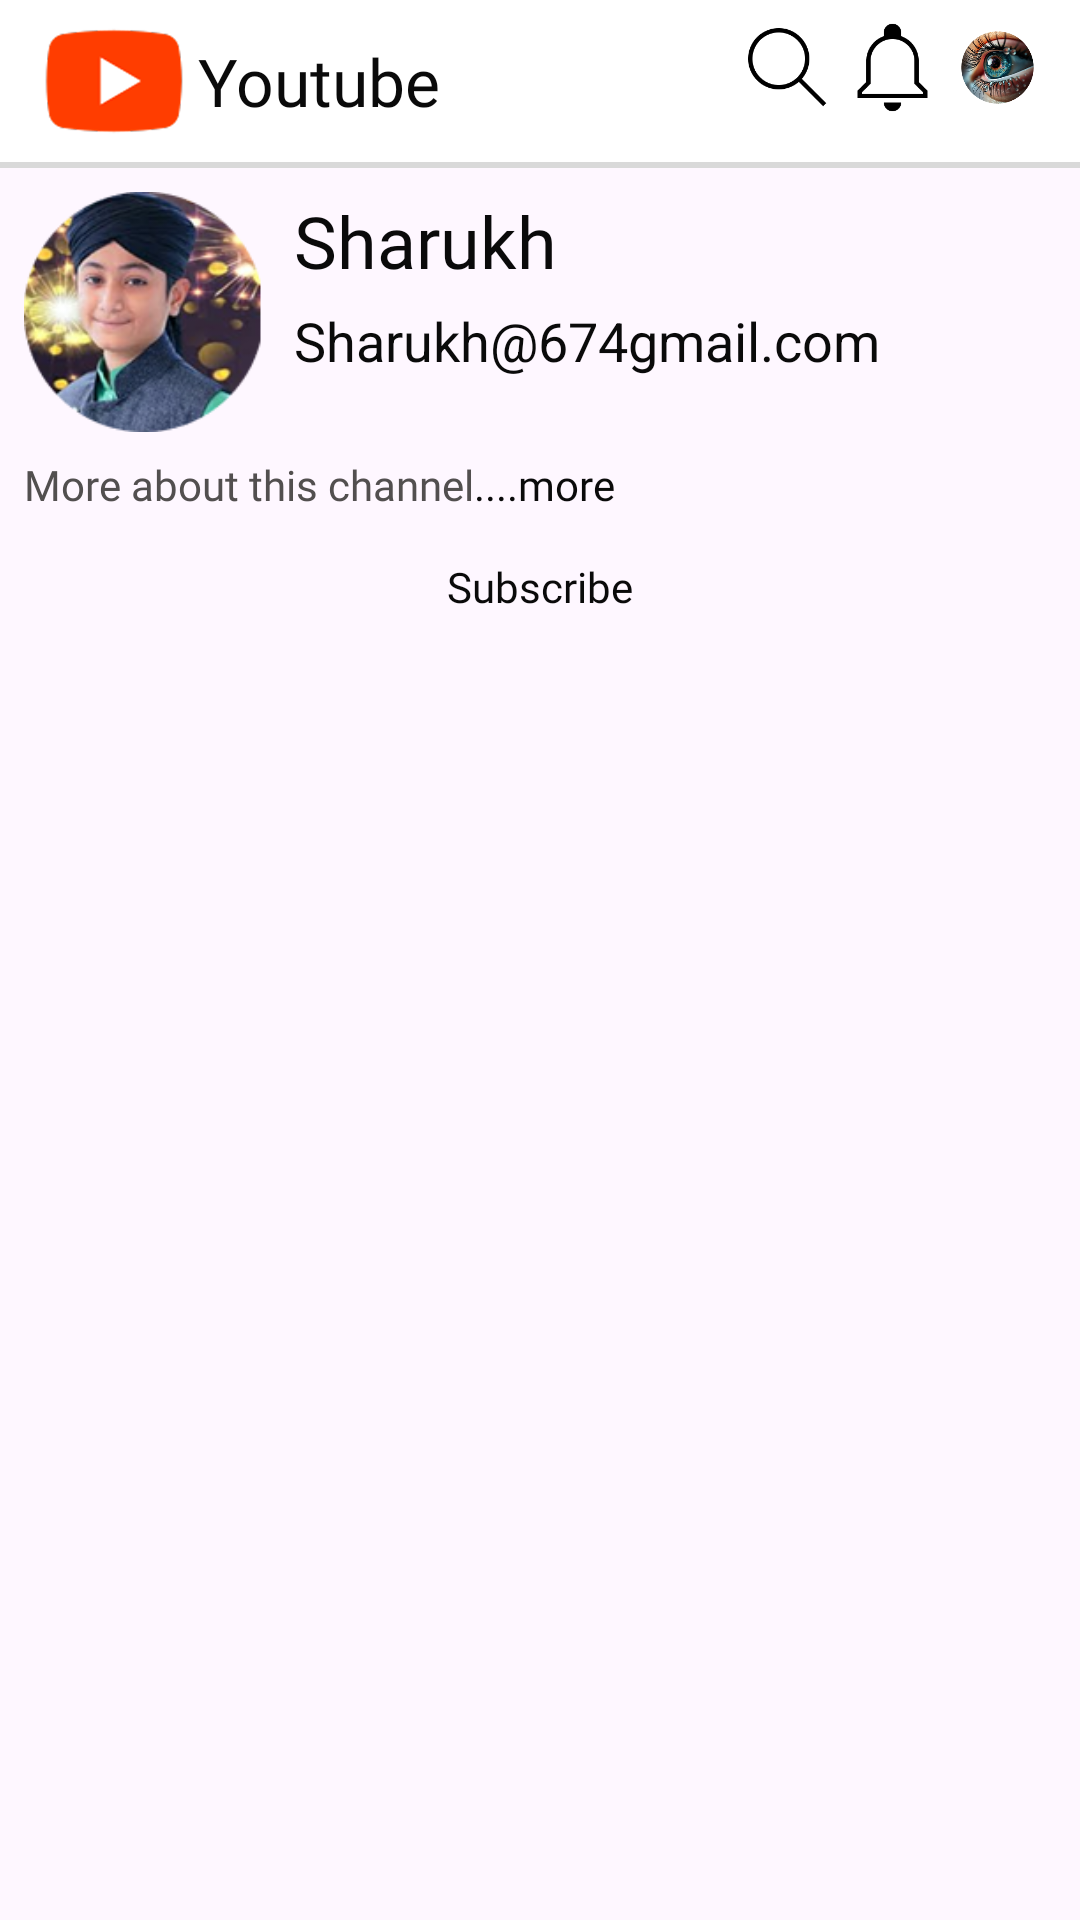

Icons on this 1080 × 1920 Android screen, each with its box as [left=x1, top=y1, right=x2, bottom=y2]:
home screen consnotification: [left=857, top=24, right=928, bottom=111]
home screen conssearch: [left=748, top=28, right=826, bottom=106]
home screen example channel: [left=24, top=192, right=261, bottom=432]
